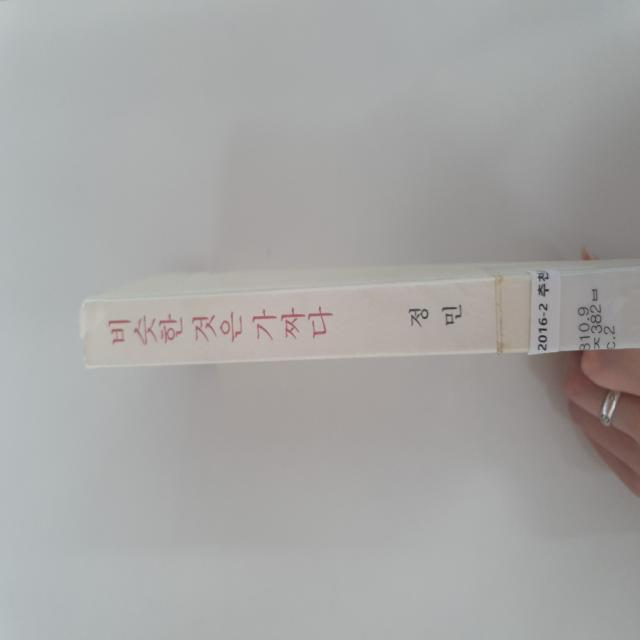Ripped: (70, 285, 111, 340)
Wornout: (77, 340, 94, 373)
